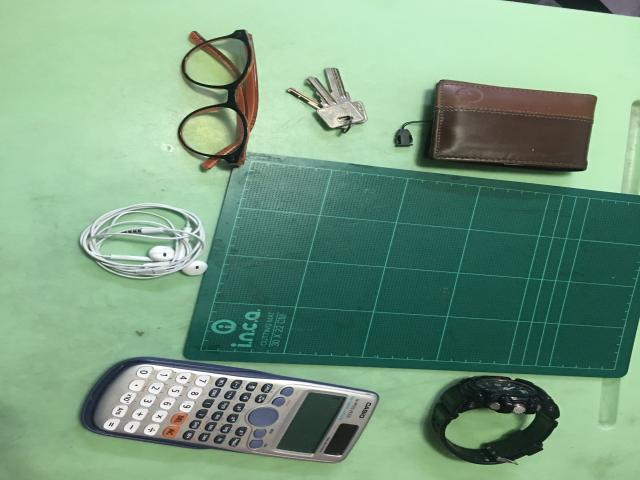Glasses: (178, 30, 257, 169)
Keys: (288, 68, 367, 133)
Wallet: (428, 80, 597, 172), (432, 376, 560, 464)
wire: (80, 203, 207, 278)
